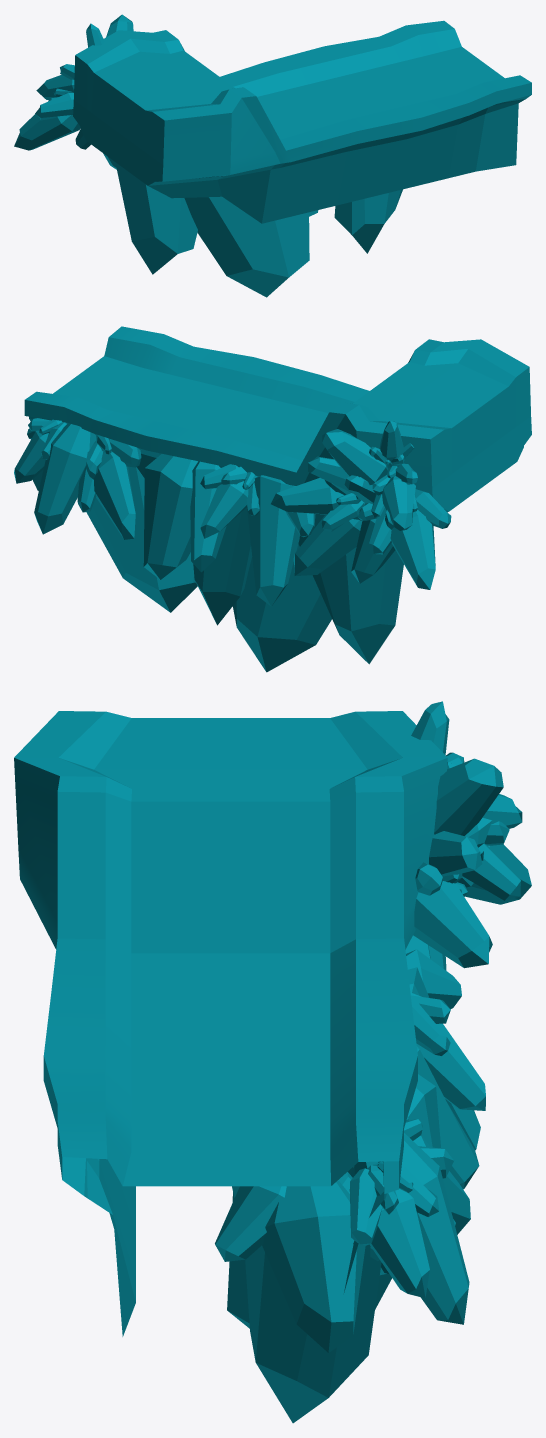
The model's file is Floating_Step_up_drop.fbx.
The picture shows the model from 3 angles, top to bottom: view 1: azimuth 30°, elevation 25°; view 2: azimuth 150°, elevation 25°; view 3: azimuth 270°, elevation 25°; orthographic projection. The views are drawn at different scales.
Parts seen in each view (by area): view 1: Step_Up_test; view 2: Step_Up_test; view 3: Step_Up_test.
Part boxes in pixels (box(x1,y1,x2,y2)): Step_Up_test: box(14, 14, 531, 297); Step_Up_test: box(14, 326, 531, 672); Step_Up_test: box(14, 701, 531, 1423).
Size of the model in its own units: 3.67 by 2.48 by 2.12.
